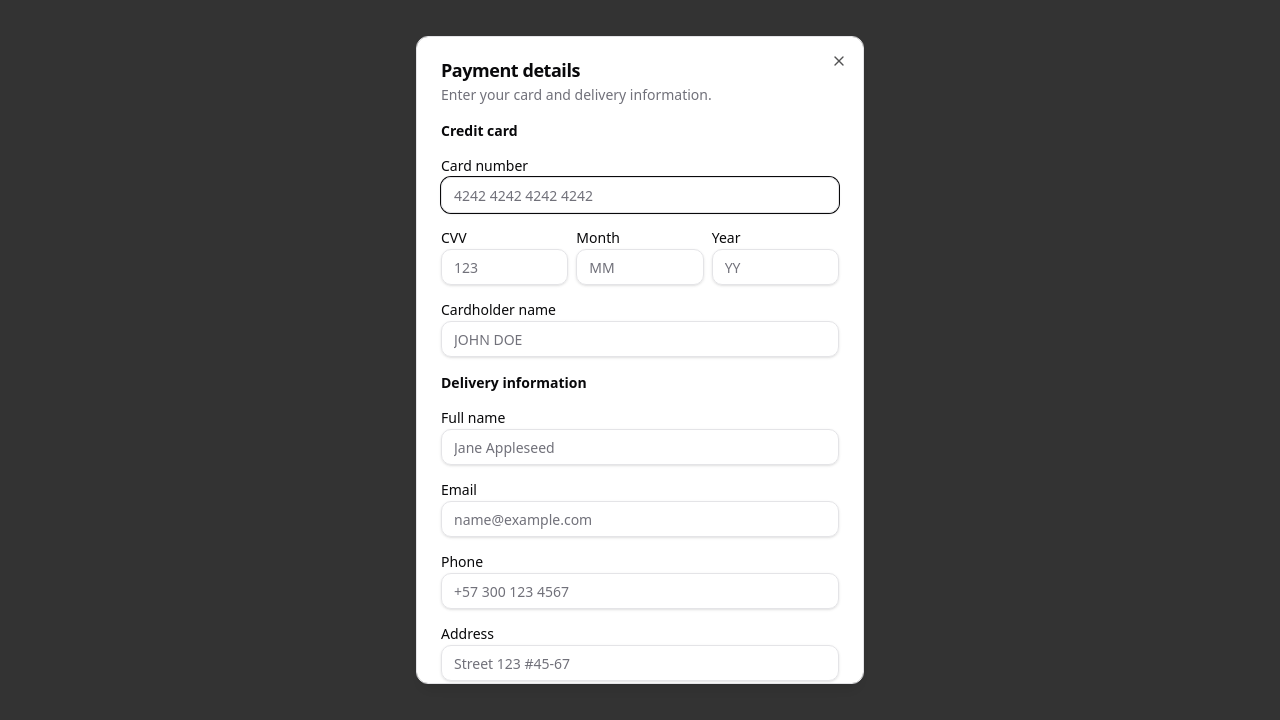
Test: CardDeliveryDialog brand logo › renders the VISA wordmark while typing a Visa number
Type "4242" into the field labelled "Card number" at {"x": 640, "y": 195}, box x1=441 y1=177 x2=839 y2=213
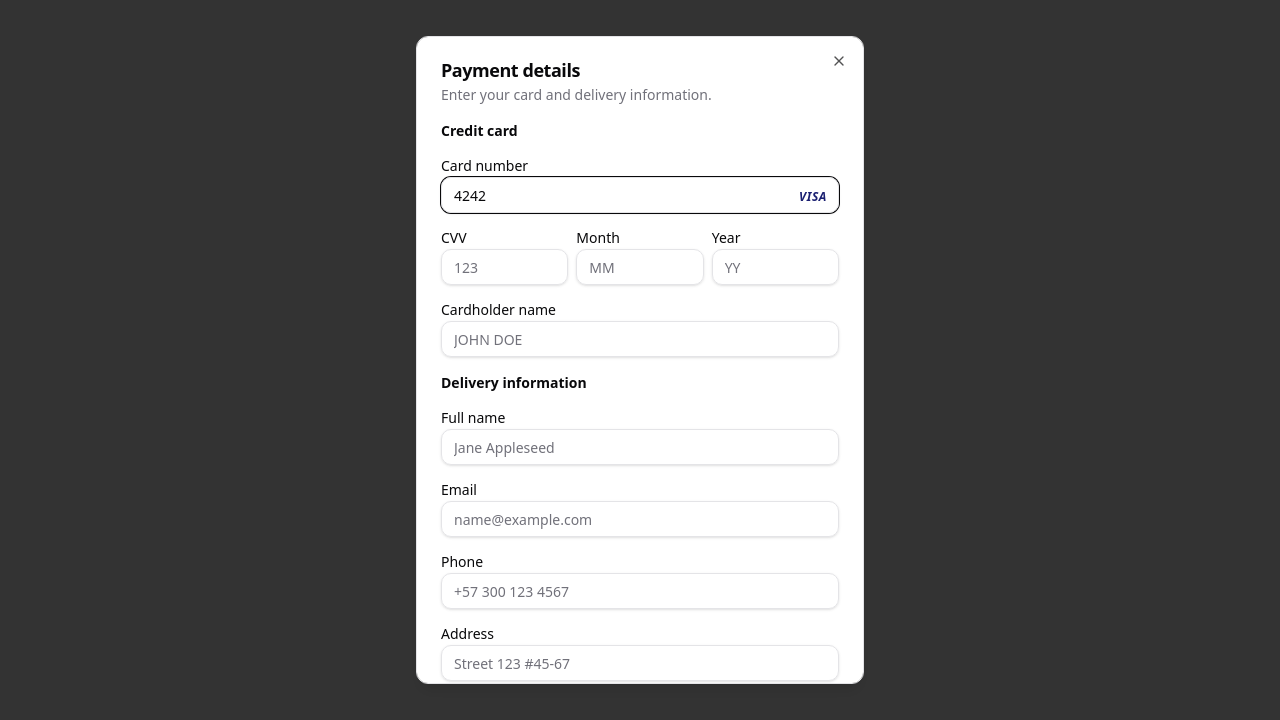
Result: the text "VISA" is shown at x1=799 y1=188 x2=827 y2=205
